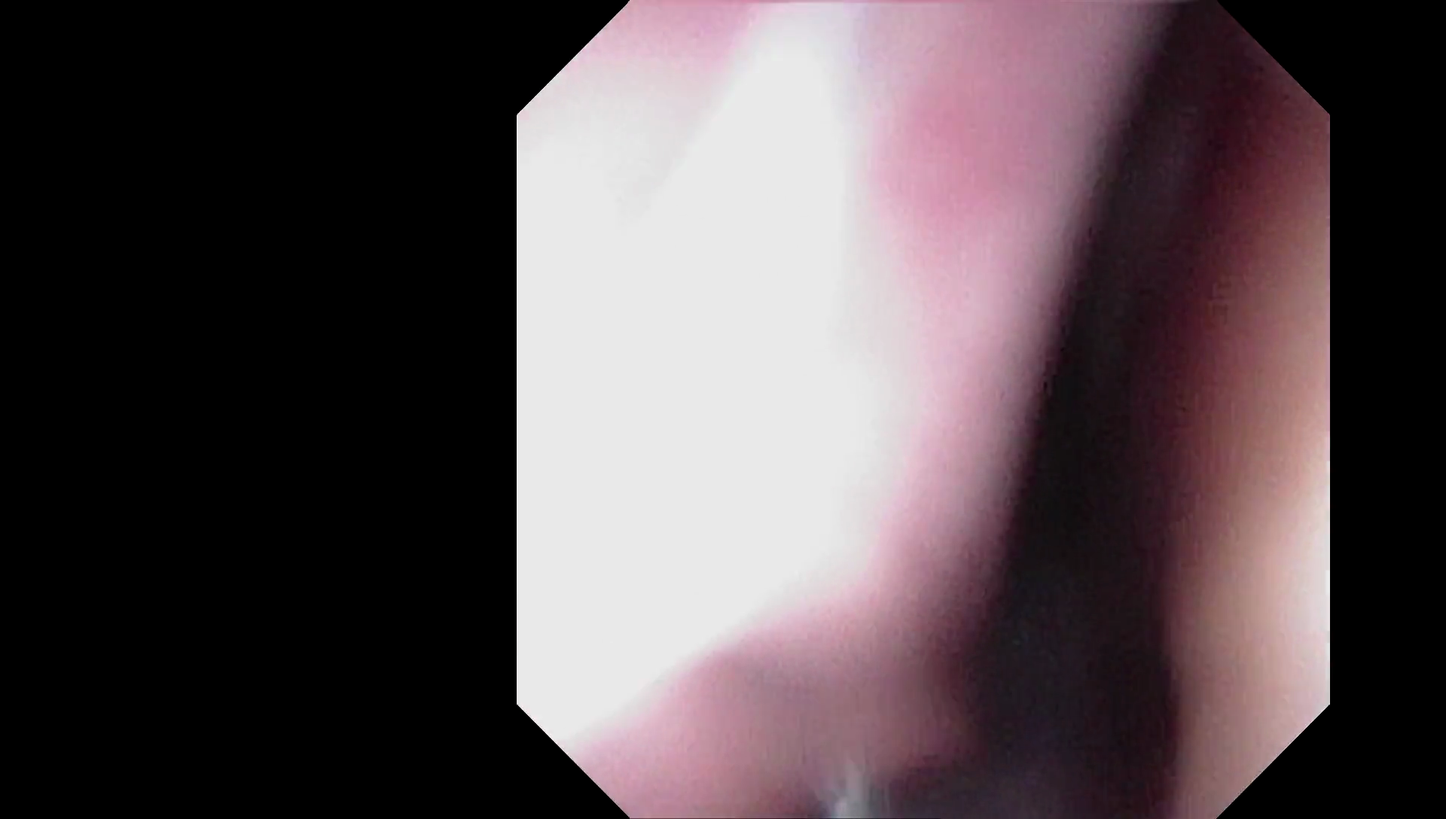close_wall: (529, 126, 1059, 698)
next: (953, 177, 1215, 799)
